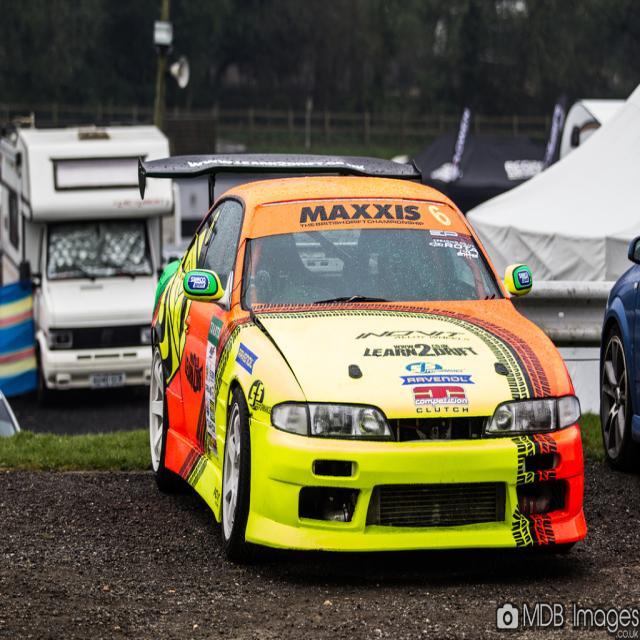car: (145, 140, 579, 582)
